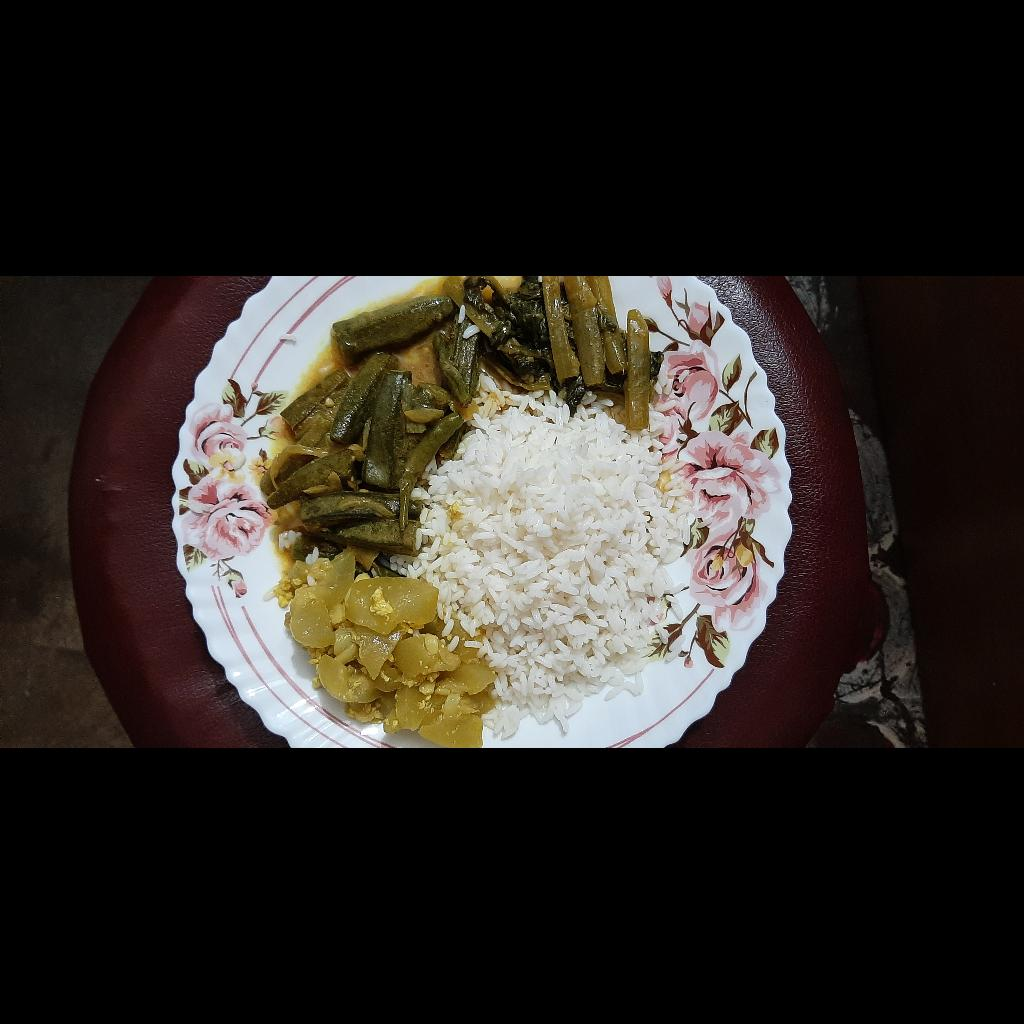okra: (193, 535, 456, 743)
papaya: (0, 546, 202, 772)
rice: (1, 684, 397, 973)
shak: (320, 670, 472, 926)
